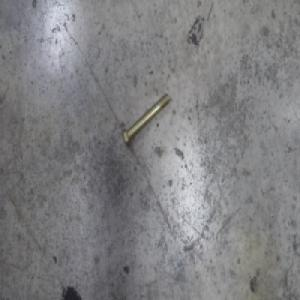Bolt: (121, 91, 171, 148)
